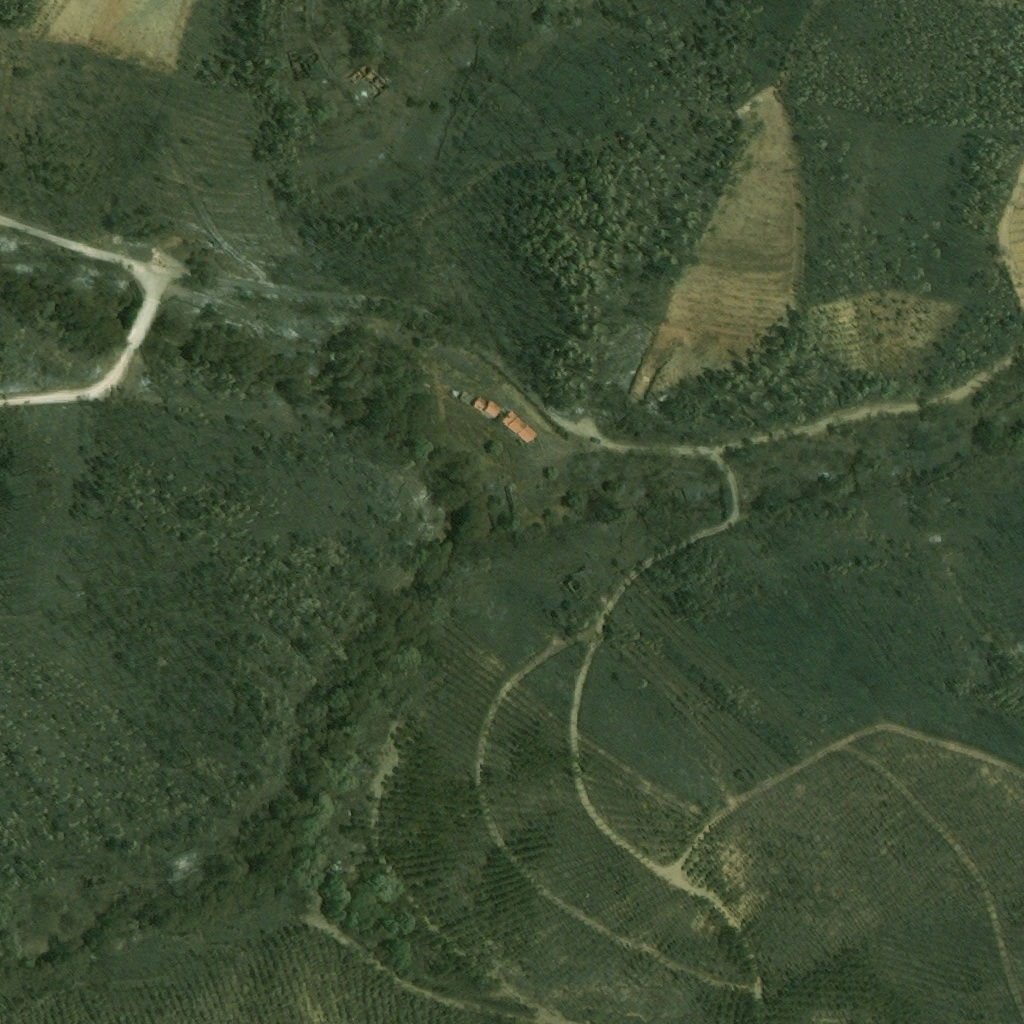0 no-damage: (500, 410, 539, 446), (472, 396, 502, 420), (458, 391, 474, 406)
